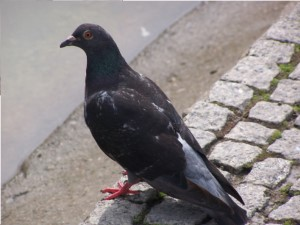pigeon: (58, 22, 249, 224)
